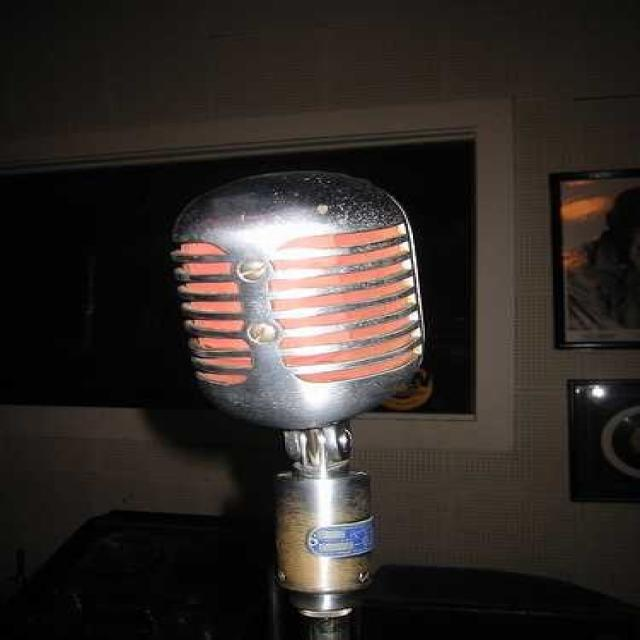microphone: (153, 162, 450, 603)
